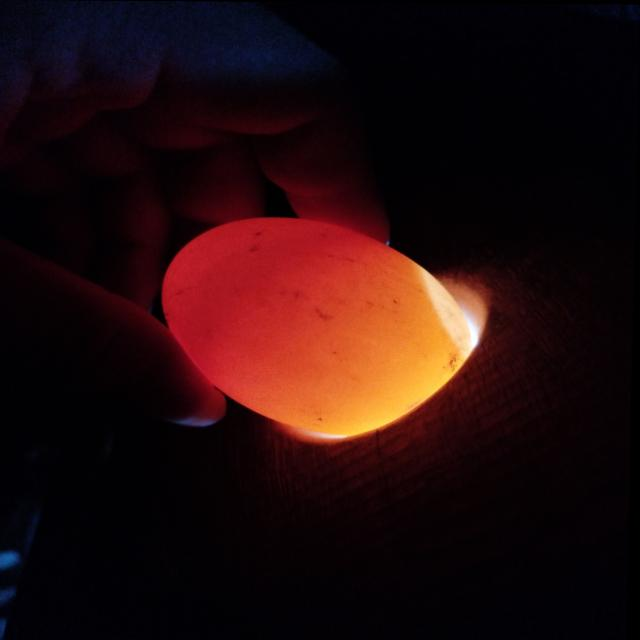Camara de Ar: (426, 270, 472, 356)
Gema Quebrada: (172, 219, 369, 384)
